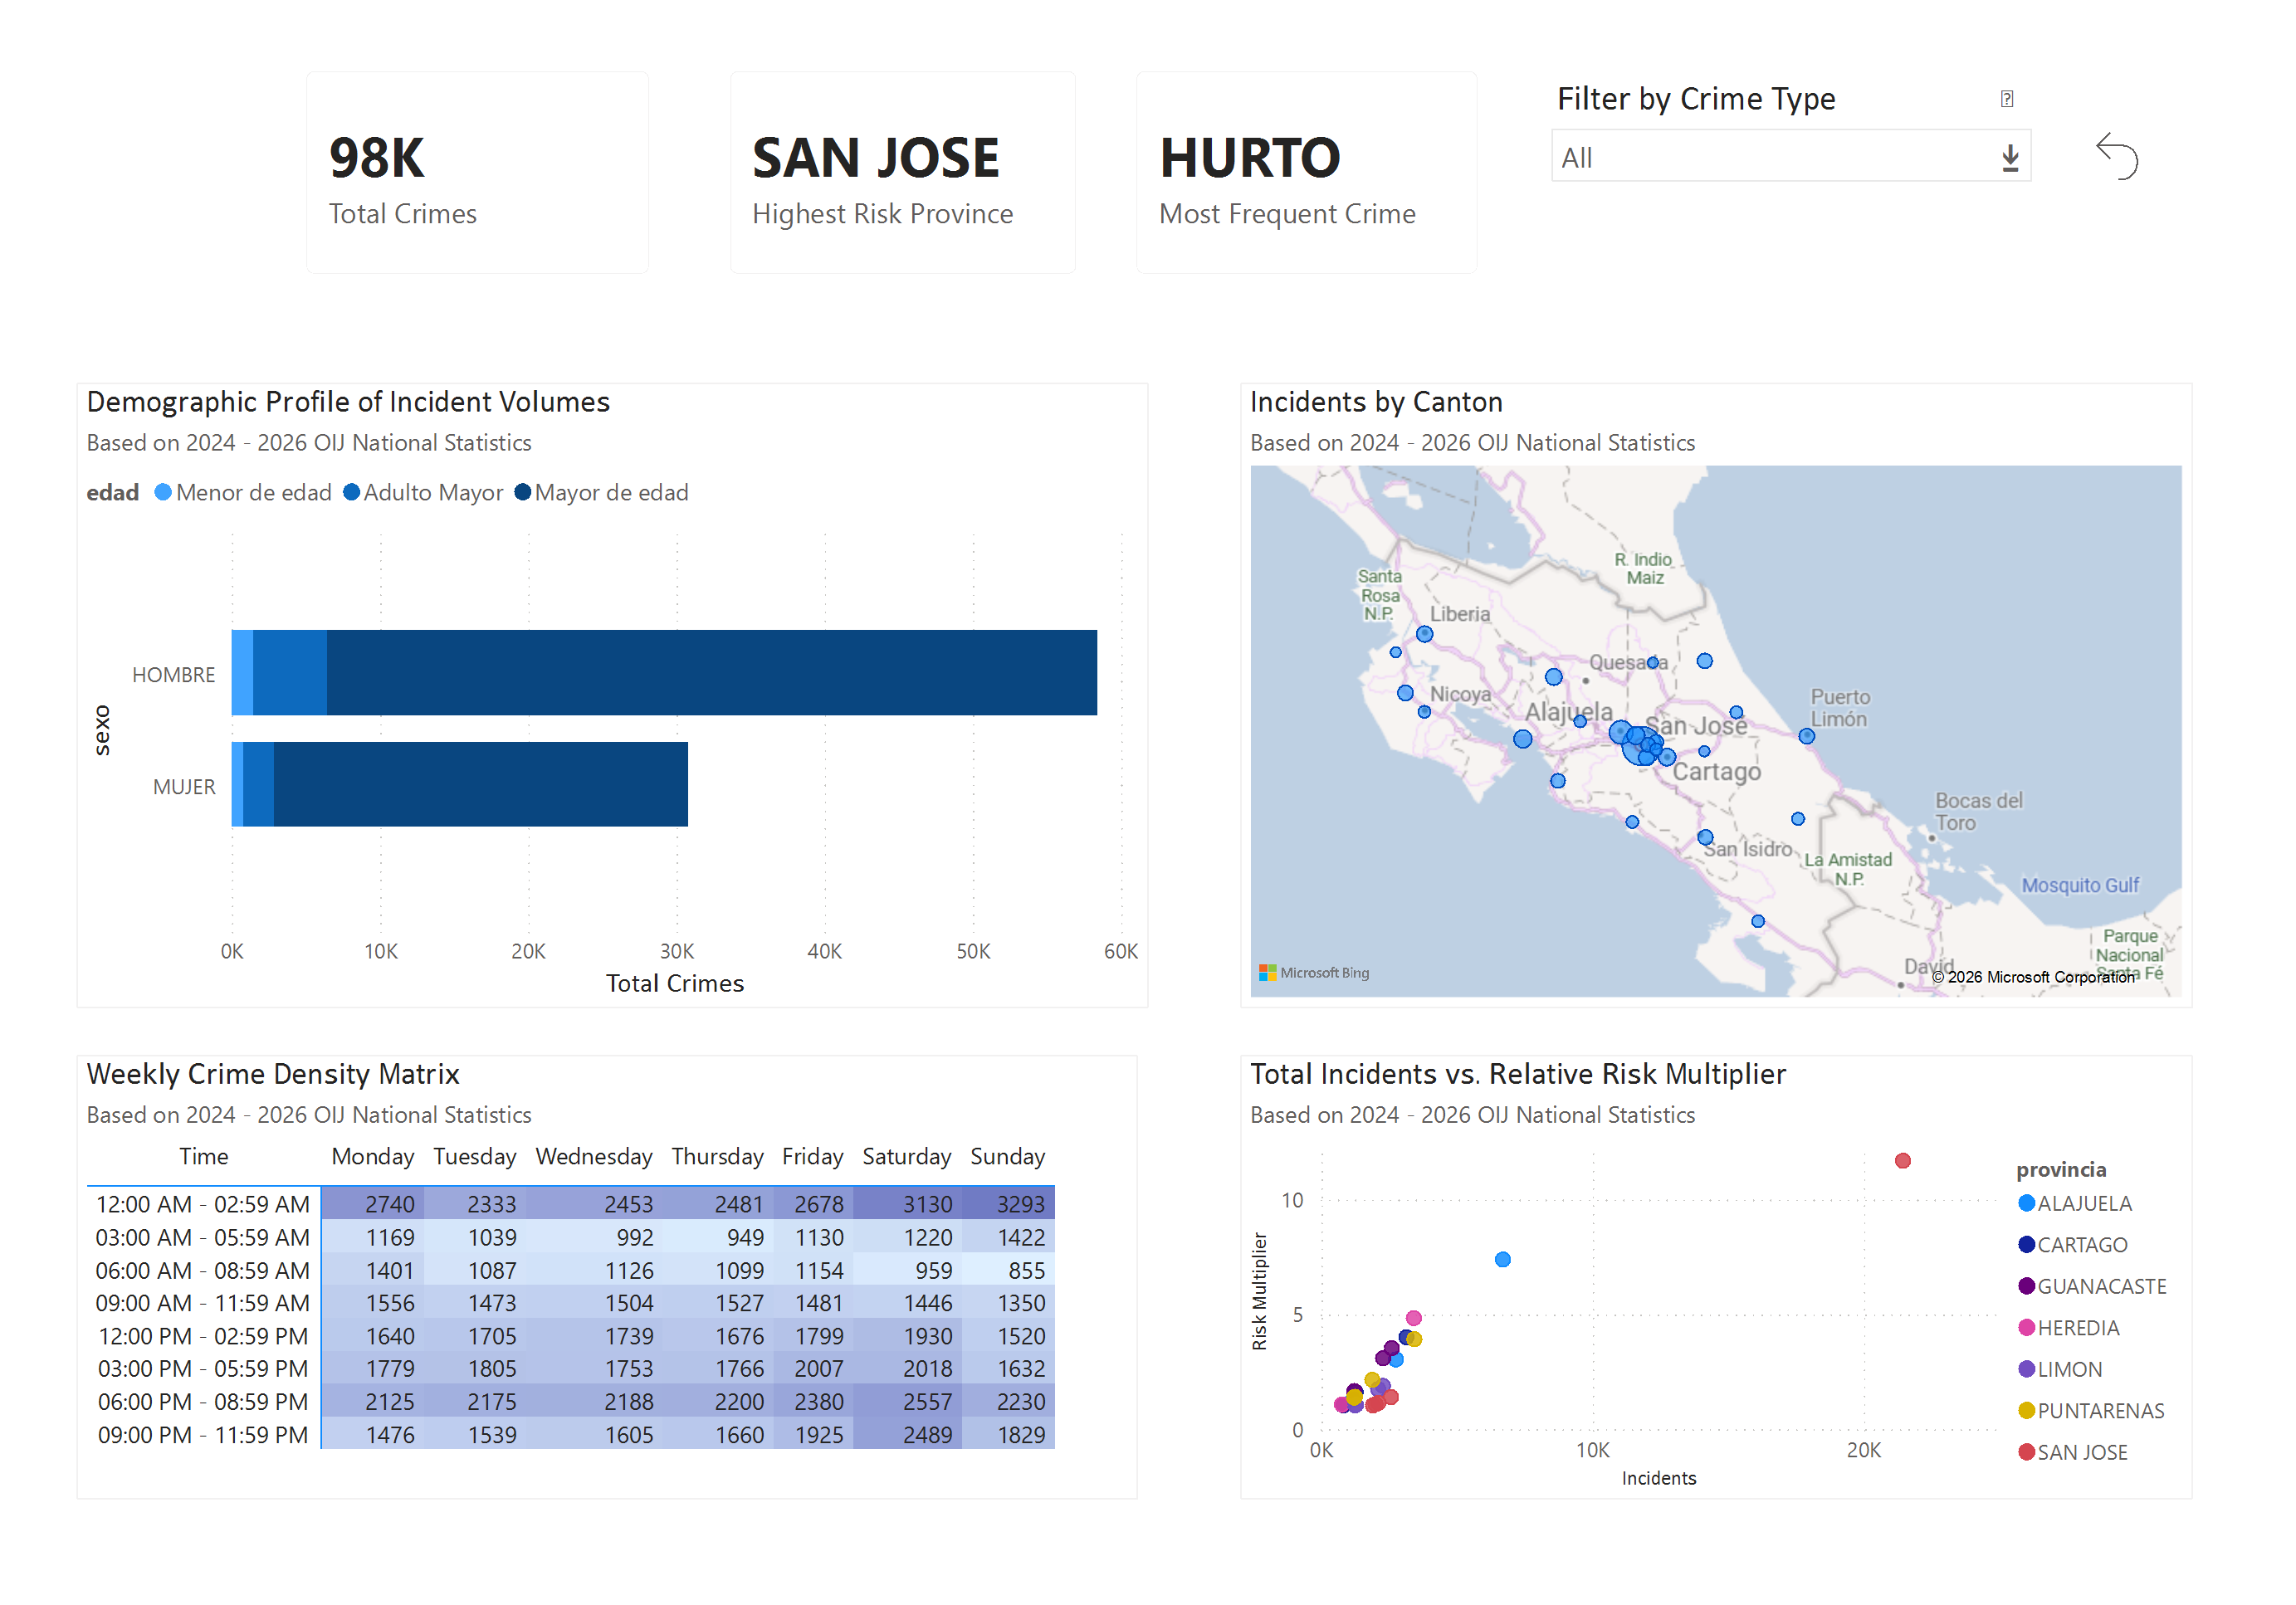

The page's visual inventory and layout, read from the dashboard file:
{"tool":"powerbi","page":{"name":"Page 1","canvas":[1280,1500],"ordinal":0},"visuals":[{"type":"pivotTable","title":"Weekly Crime Density Matrix","fields":{"Rows":["public crime_stats.Time_Window_12h"],"Columns":["public crime_stats.Day of Week"],"Values":["CountNonNull(public crime_stats.delito)"]},"box":[20,585.7,614.3,257.1],"z":0},{"type":"barChart","title":"Demographic Profile of Incident Volumes","fields":{"Category":["public crime_stats.sexo"],"Y":["public crime_stats.Total Crimes"],"Series":["public crime_stats.edad"]},"box":[20,197.1,620,361.4],"z":1000},{"type":"map","title":"Incidents by Canton","fields":{"Size":["Avg(Location.actual_incidents)"],"Category":["Location.Location"]},"box":[692.9,197.1,551.4,361.4],"z":2000},{"type":"scatterChart","title":"Total Incidents vs. Relative Risk Multiplier","fields":{"Series":["Location.provincia"],"X":["Avg(Location.actual_incidents)"],"Y":["Avg(Location.risk_multiplier)"],"Category":["Location.canton"]},"box":[692.9,585.7,551.4,257.1],"z":3000},{"type":"slicer","fields":{"Values":["public crime_stats.delito","public crime_stats.subdelito"]},"box":[862.9,17.1,298.6,68.6],"z":4000},{"type":"cardVisual","fields":{"Data":["public crime_stats.Total Crimes"]},"box":[135.7,0,232.9,151.4],"z":5000},{"type":"cardVisual","fields":{"Data":["Min(public crime_stats.provincia)"]},"box":[381.4,0,234.3,151.4],"z":6000},{"type":"cardVisual","fields":{"Data":["Min(public crime_stats.delito)"]},"box":[615.7,0,231.4,151.4],"z":7000},{"type":"actionButton","box":[1180,45.7,100,40],"z":7001}]}

Visuals, with their boxes on the page's 1280x1500 design canvas (x1, y1, x2, y2). These are canvas units, not pixel positions in the 2296x1605 screenshot, which may show the page scaled, cropped or inside an application window:
"Weekly Crime Density Matrix" pivotTable: {"left": 20, "top": 586, "right": 634, "bottom": 843}
"Demographic Profile of Incident Volumes" barChart: {"left": 20, "top": 197, "right": 640, "bottom": 558}
"Incidents by Canton" map: {"left": 693, "top": 197, "right": 1244, "bottom": 558}
"Total Incidents vs. Relative Risk Multiplier" scatterChart: {"left": 693, "top": 586, "right": 1244, "bottom": 843}
slicer - public crime_stats.delito x public crime_stats.subdelito: {"left": 863, "top": 17, "right": 1162, "bottom": 86}
cardVisual - public crime_stats.Total Crimes: {"left": 136, "top": 0, "right": 369, "bottom": 151}
cardVisual - Min(public crime_stats.provincia): {"left": 381, "top": 0, "right": 616, "bottom": 151}
cardVisual - Min(public crime_stats.delito): {"left": 616, "top": 0, "right": 847, "bottom": 151}
actionButton: {"left": 1180, "top": 46, "right": 1280, "bottom": 86}
